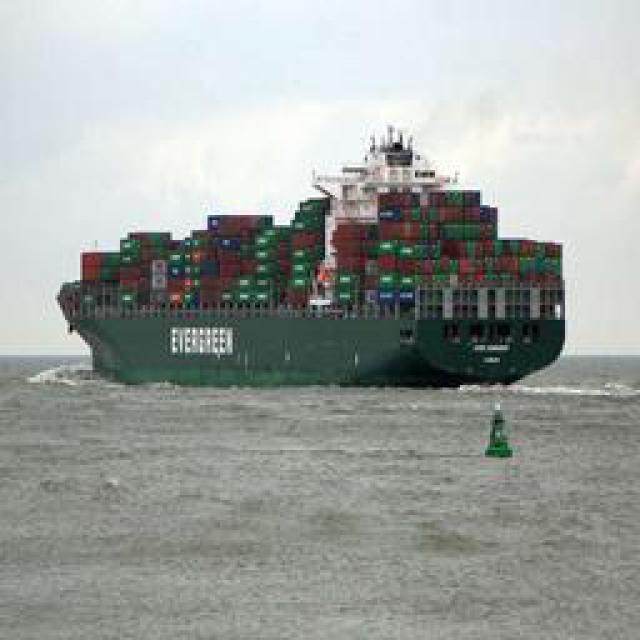Ship: (53, 119, 571, 392)
